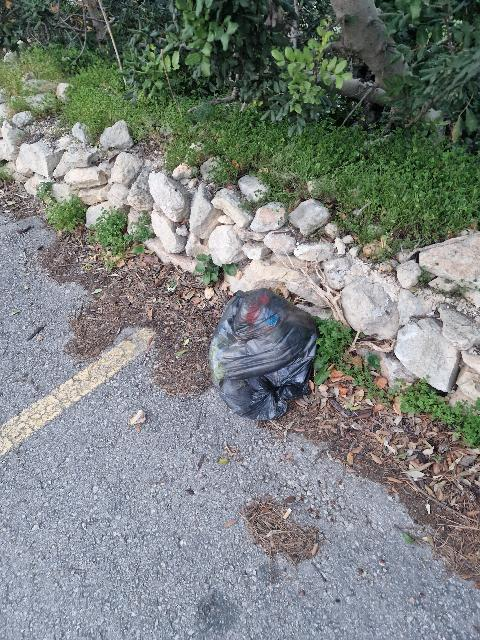Mixed -Black-: (209, 288, 319, 420)
